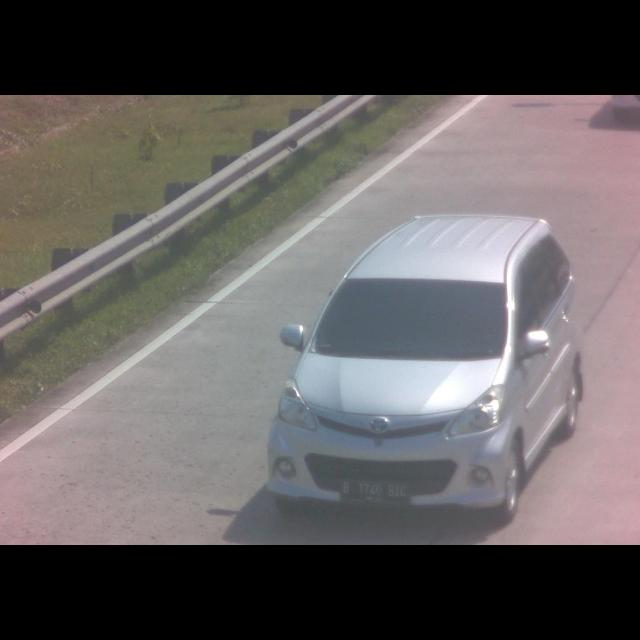plate: (340, 477, 410, 505)
